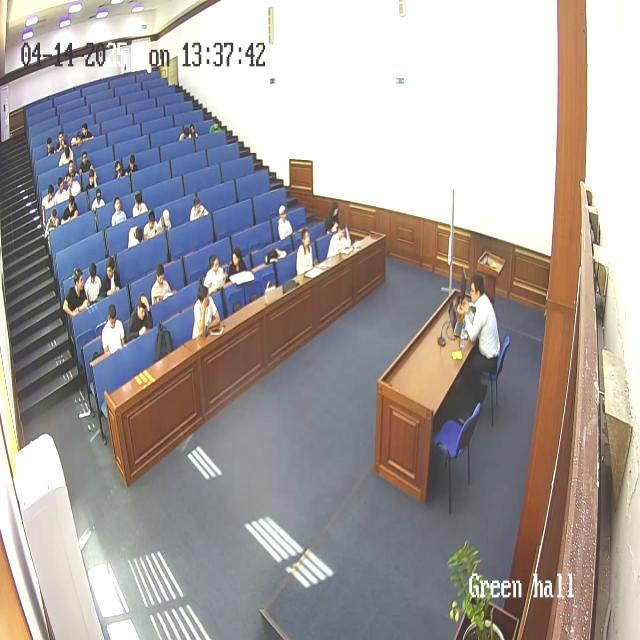person: (458, 273, 500, 396), (191, 286, 221, 341), (100, 303, 126, 356), (63, 268, 89, 318), (126, 296, 152, 342), (326, 218, 352, 258), (203, 254, 227, 294), (295, 226, 314, 276), (150, 263, 172, 305), (226, 245, 248, 283), (99, 258, 119, 298), (85, 261, 103, 305), (142, 209, 162, 239), (277, 204, 293, 240), (110, 196, 128, 228), (324, 200, 340, 235), (40, 184, 56, 219), (190, 195, 210, 221), (128, 218, 144, 248), (62, 196, 78, 226), (44, 209, 60, 239), (54, 175, 69, 207), (64, 170, 80, 200), (132, 191, 148, 219), (78, 152, 94, 180), (91, 187, 105, 215), (86, 167, 100, 195), (58, 143, 73, 168), (157, 209, 171, 234), (126, 153, 140, 177), (114, 159, 128, 181), (78, 124, 94, 143), (56, 130, 68, 154), (208, 118, 222, 134), (45, 136, 55, 156), (187, 124, 198, 138), (179, 127, 189, 141)
